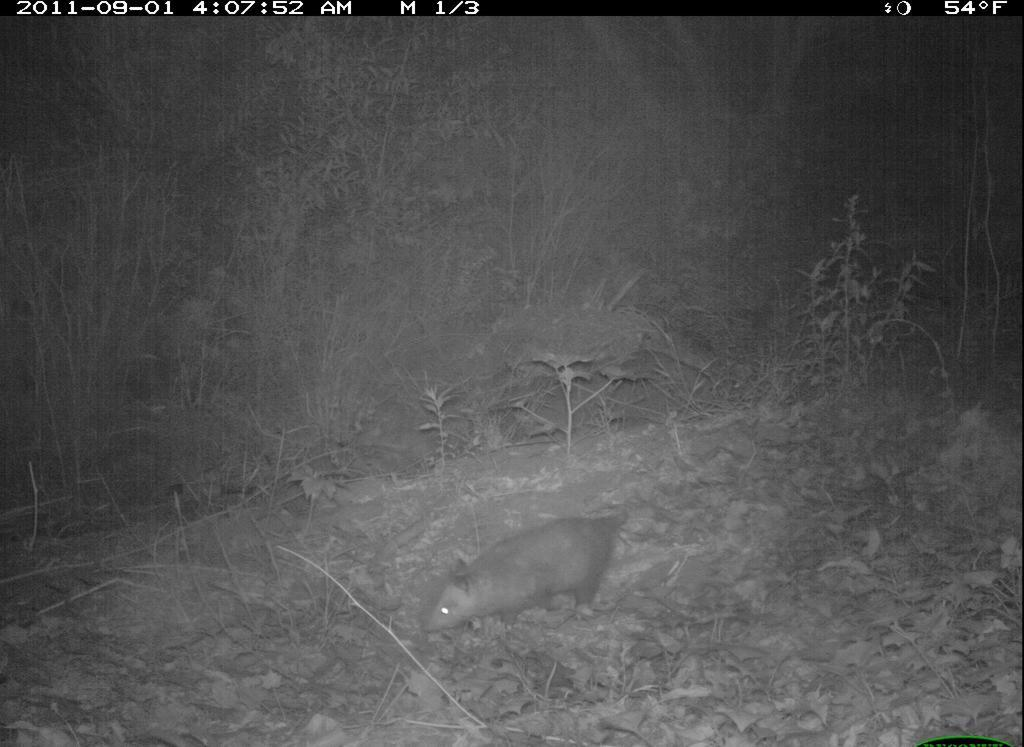opossum: (415, 504, 652, 657)
